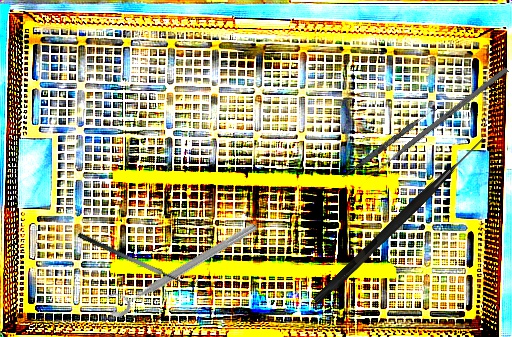Fixation Ring: (100, 210, 261, 322)
Hook Surgical: (312, 133, 487, 307)
Pusher: (364, 66, 509, 182)
Spatula Surgical: (76, 222, 200, 294), (341, 103, 438, 182)
